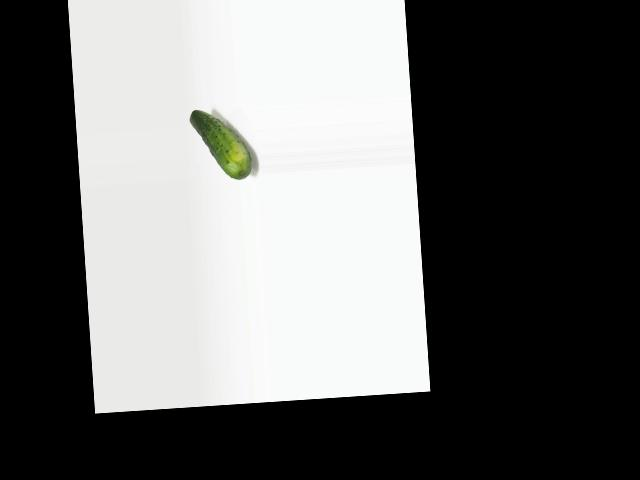cucumber: (189, 106, 252, 182)
